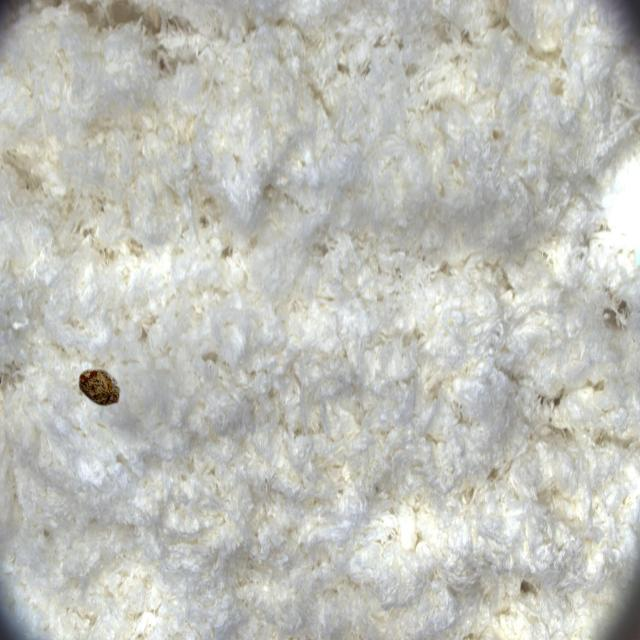dust: (66, 332, 146, 453)
